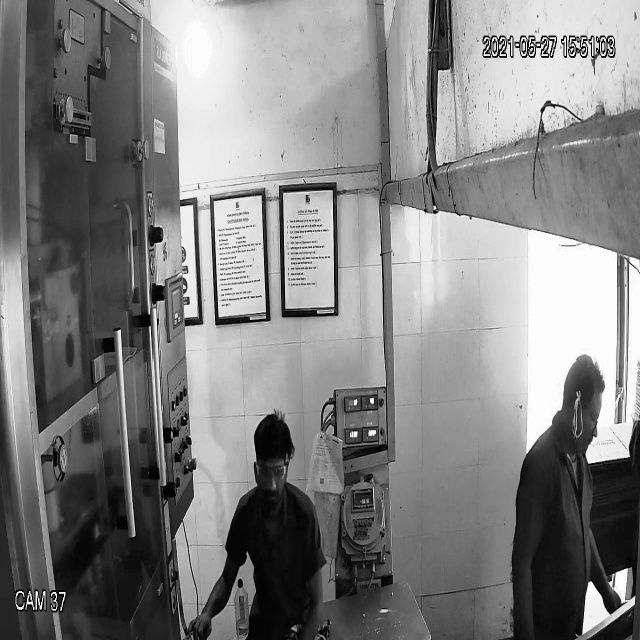Gafas: (248, 453, 293, 488)
